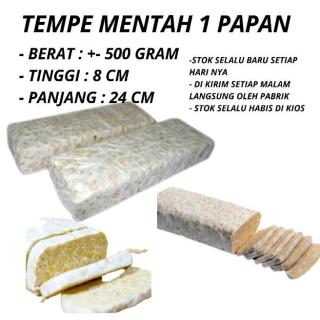Tempe: (7, 101, 320, 312), (48, 118, 216, 223), (157, 187, 320, 280), (8, 102, 158, 176), (157, 187, 262, 256), (61, 267, 152, 315), (243, 225, 313, 273), (286, 243, 320, 280)
